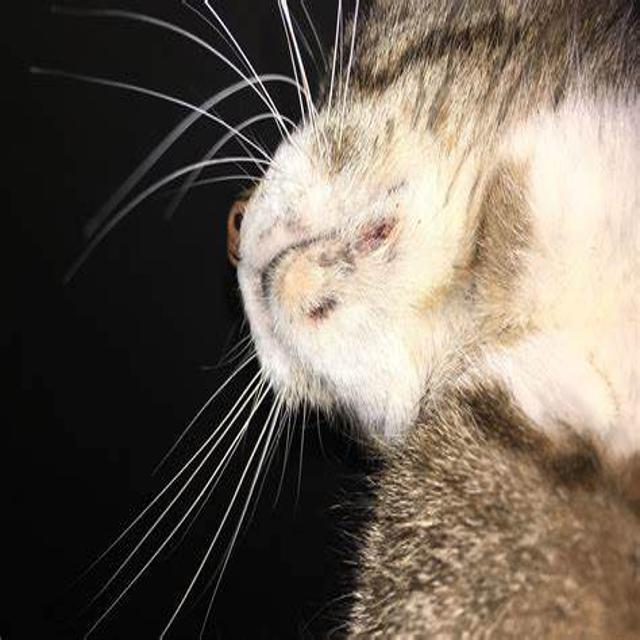acne: (309, 214, 405, 324)
